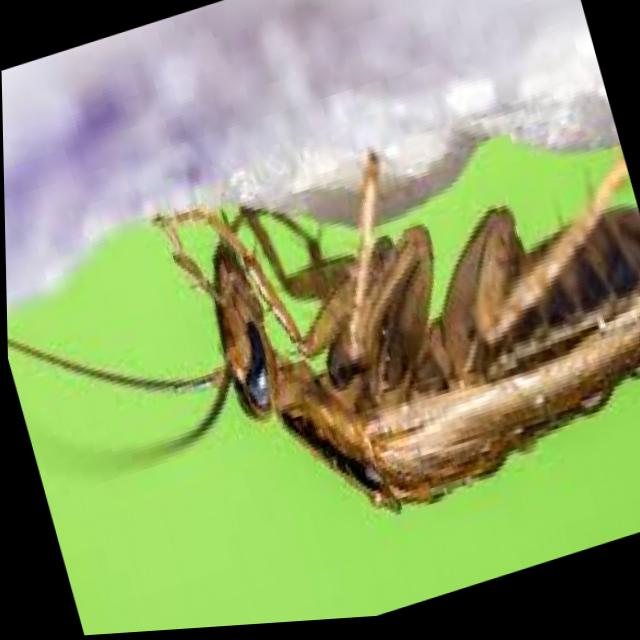Cockroach: (2, 53, 640, 638)
